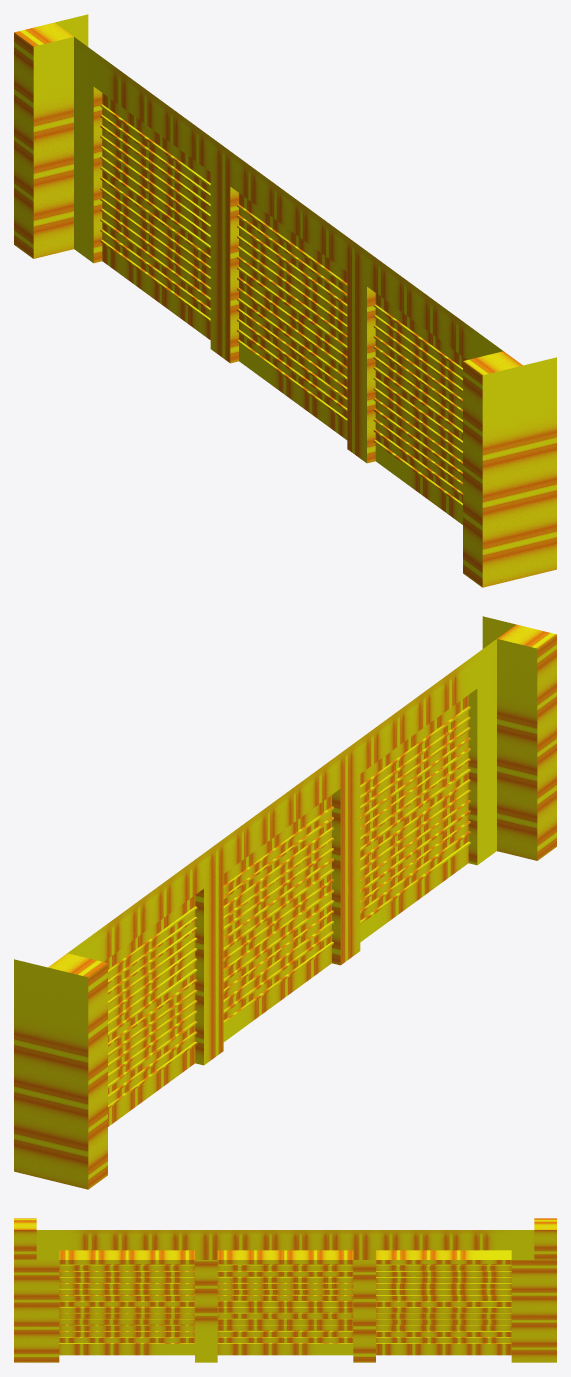
The model's file is Factory_Front_Garages.fbx.
3 renders of one model, top to bottom at view 1: azimuth 30°, elevation 25°; view 2: azimuth 150°, elevation 25°; view 3: azimuth 270°, elevation 25°, orthographic. The views are drawn at different scales.
Visible parts, largest first — view 1: Cube.283; view 2: Cube.283; view 3: Cube.283.
Boxes of the visible parts, x1=… form: Cube.283: x1=14, y1=14, x2=556, y2=587; Cube.283: x1=14, y1=616, x2=556, y2=1189; Cube.283: x1=14, y1=1218, x2=556, y2=1362.
Bounding box in the file's own units: 110 × 300 × 1200.
